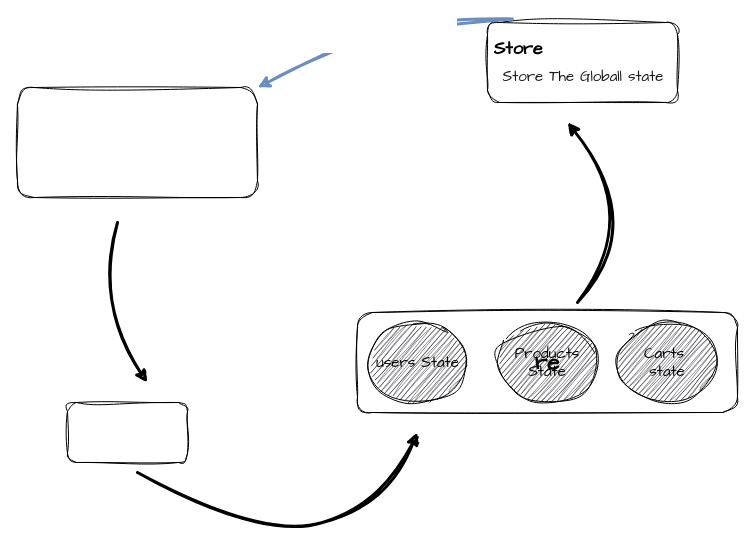
Some shapes in this 755 by 546 pixel diagram are drawn without their labels. The shapes that lost their labels are listed below. From the top down, each one's centre as x and y in pixels, then its label:
(137,142): App.jsx any react component at any level
(127,432): actions
